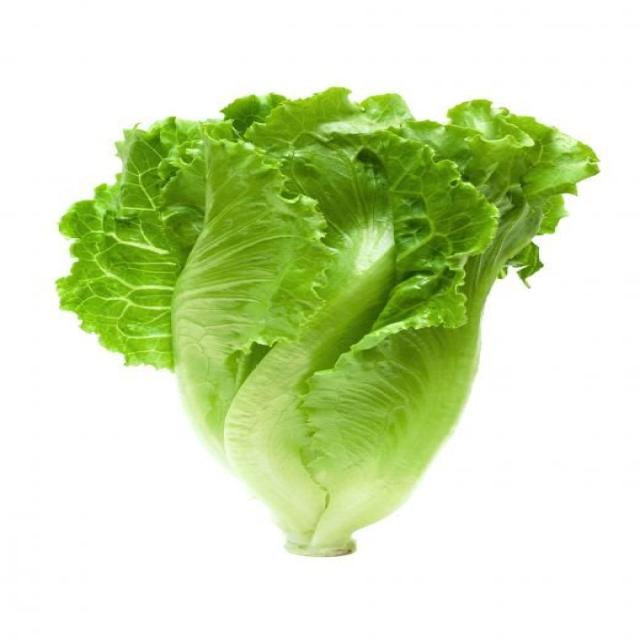lettuce: (58, 89, 596, 555)
